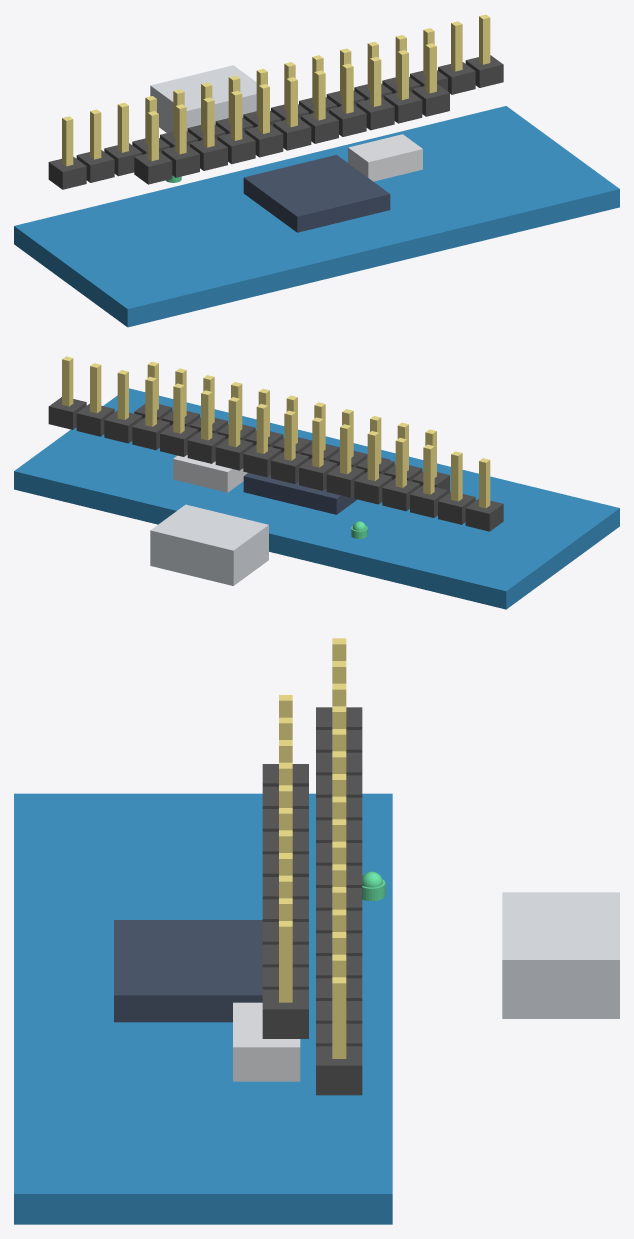
File: arduino-nano.glb
3 renders of one model, top to bottom at view 1: azimuth 30°, elevation 25°; view 2: azimuth 150°, elevation 25°; view 3: azimuth 270°, elevation 25°, orthographic. The views are drawn at different scales.
Parts seen in each view (by area): view 1: arduino-nano_mesh; view 2: arduino-nano_mesh; view 3: arduino-nano_mesh.
Boxes of the visible parts, x1=… form: arduino-nano_mesh: x1=14, y1=14, x2=619, y2=327; arduino-nano_mesh: x1=14, y1=356, x2=619, y2=609; arduino-nano_mesh: x1=14, y1=638, x2=619, y2=1224.
Size of the model in its own units: 45 by 11.2 by 28.8.
